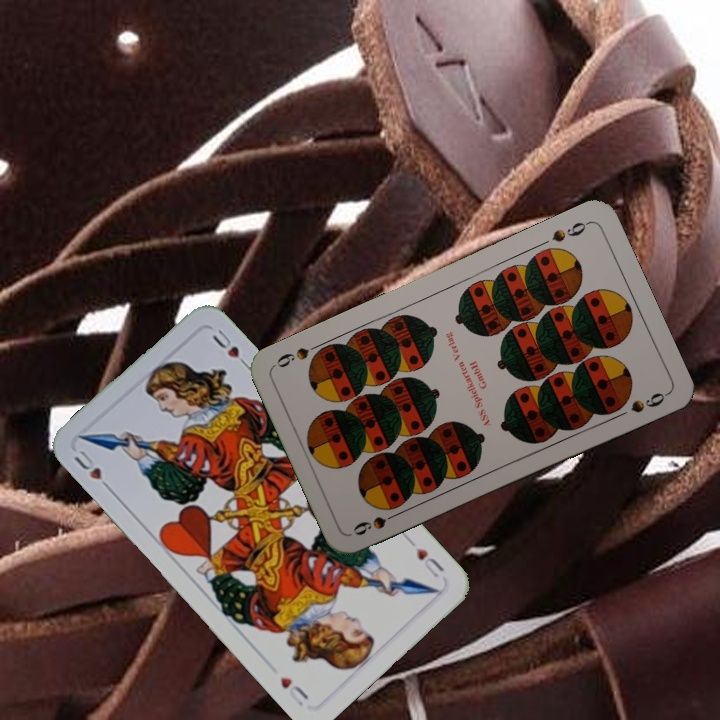HU: (69, 446, 115, 495), (412, 544, 447, 581)
S9: (349, 506, 405, 539), (547, 217, 592, 245)
